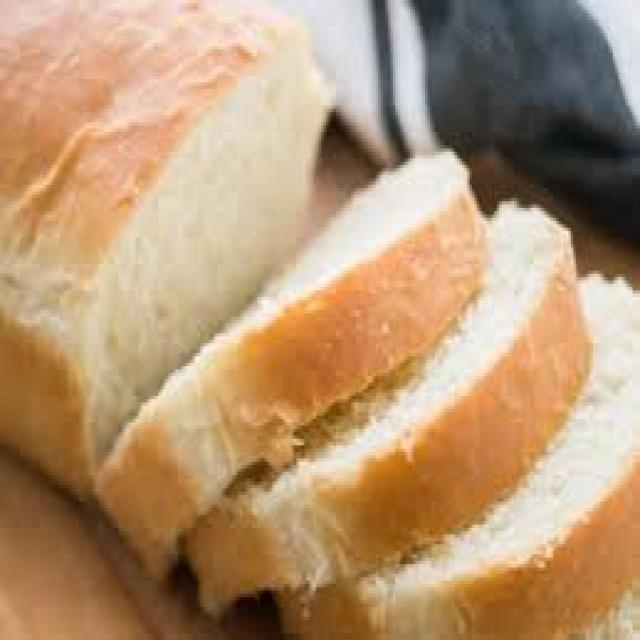organic waste: (92, 145, 484, 584), (185, 194, 591, 614), (0, 0, 321, 495), (274, 270, 638, 636)
